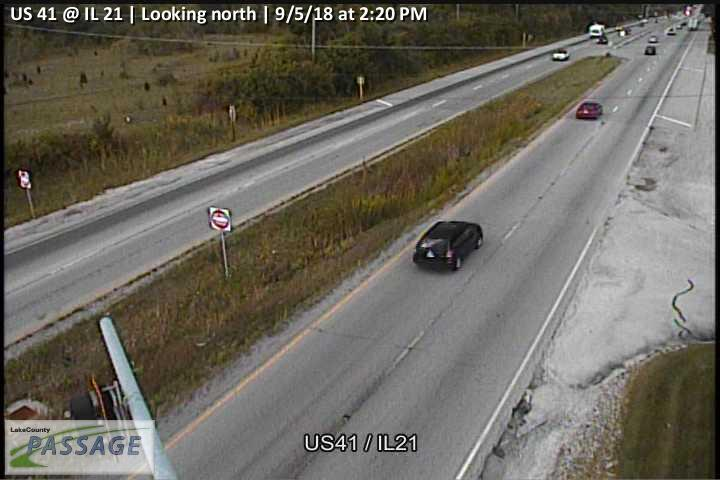SUV: (411, 220, 483, 274)
Sedan: (575, 101, 602, 120), (552, 49, 570, 60)
